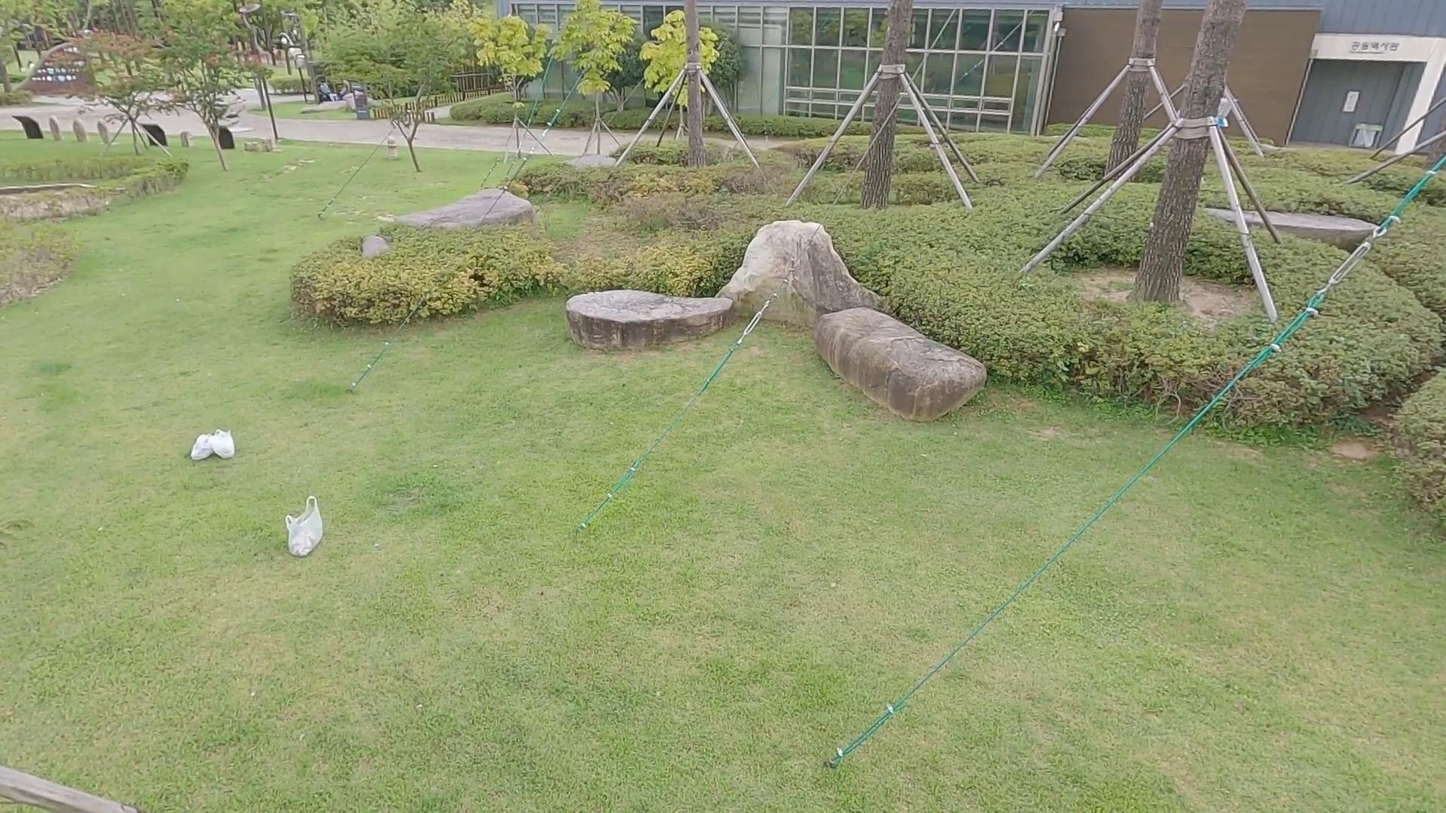trash: (285, 495, 324, 556), (209, 428, 237, 460), (191, 433, 216, 459)
